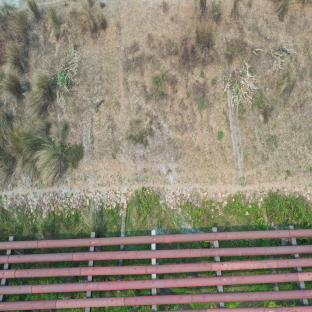rock_toe: (5, 189, 311, 230)
slope_drain: (227, 85, 251, 173)
toe_drain: (0, 179, 312, 195)
